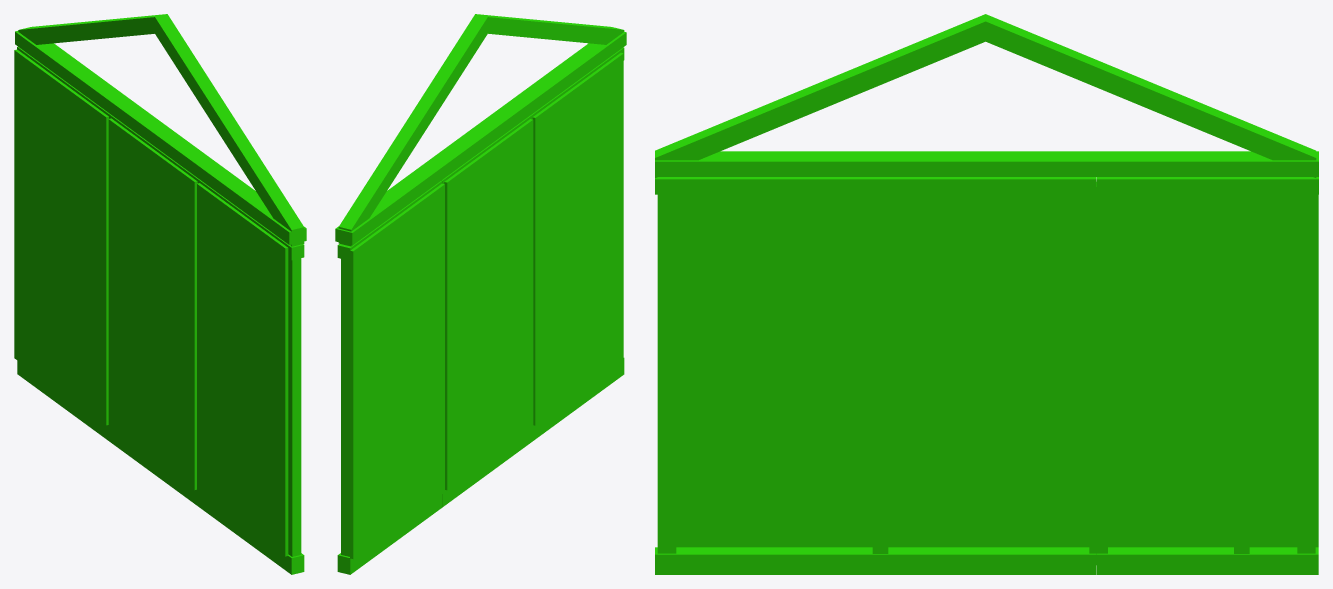
File: HT_01_Wall_04.fbx
The picture shows the model from 3 angles, left to right: view 1: azimuth 30°, elevation 25°; view 2: azimuth 150°, elevation 25°; view 3: azimuth 270°, elevation 25°; orthographic projection. The views are drawn at different scales.
Visible parts, largest first — view 1: HT_01_Wall_04; view 2: HT_01_Wall_04; view 3: HT_01_Wall_04.
Part boxes in pixels (box(x1,y1,x2,y2)): HT_01_Wall_04: box(14, 14, 306, 574); HT_01_Wall_04: box(335, 14, 626, 574); HT_01_Wall_04: box(655, 14, 1318, 574).
Bounding box in the file's own units: 16.9 × 416 × 452.
